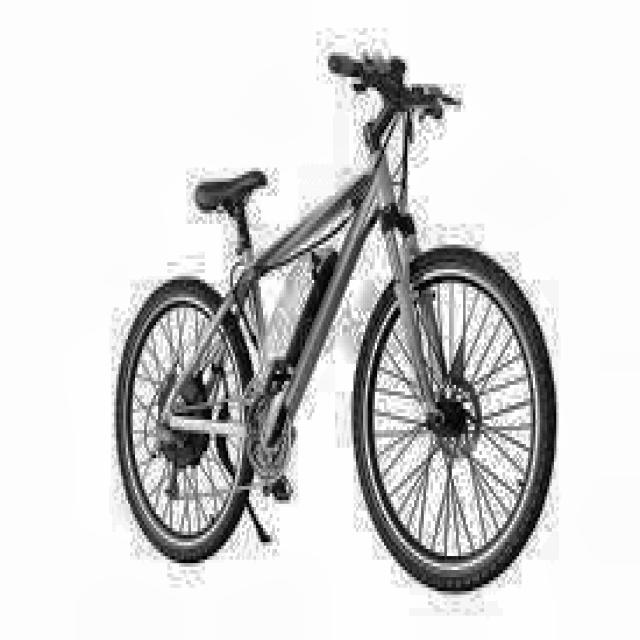bicycle: (110, 38, 560, 598)
